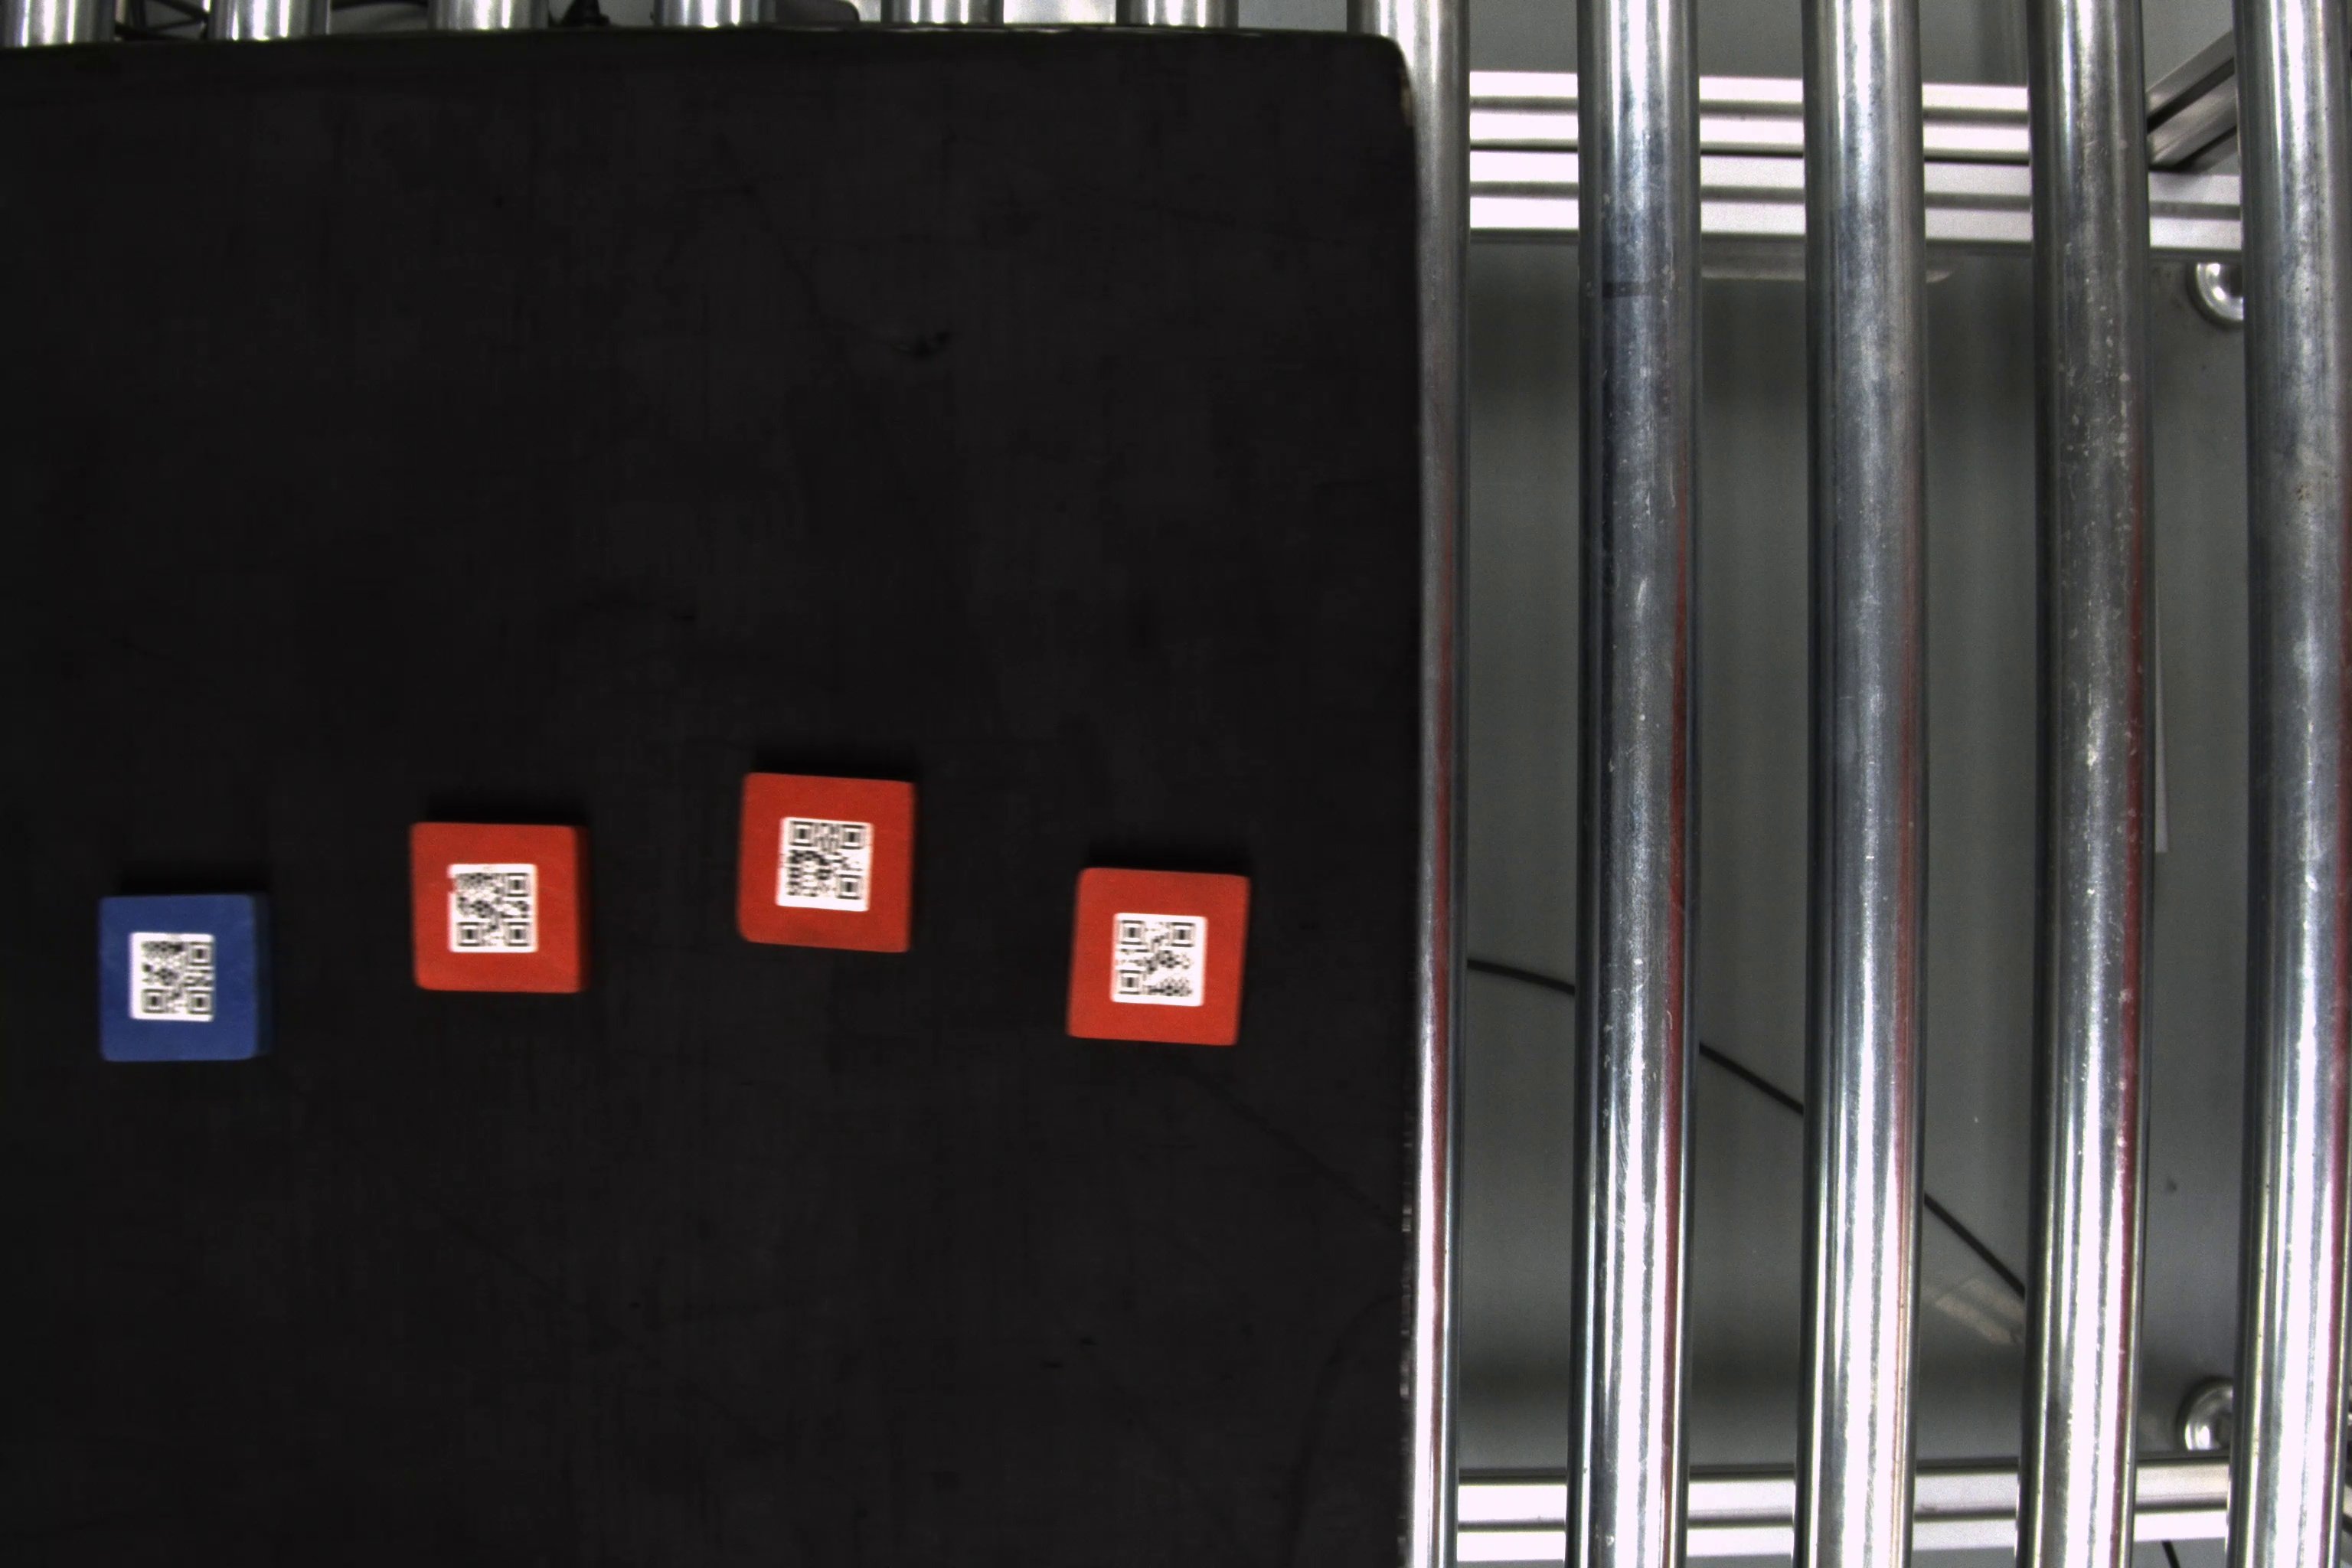wood: (1060, 856, 1256, 1048), (733, 766, 931, 954), (91, 889, 283, 1078), (406, 822, 595, 997)
